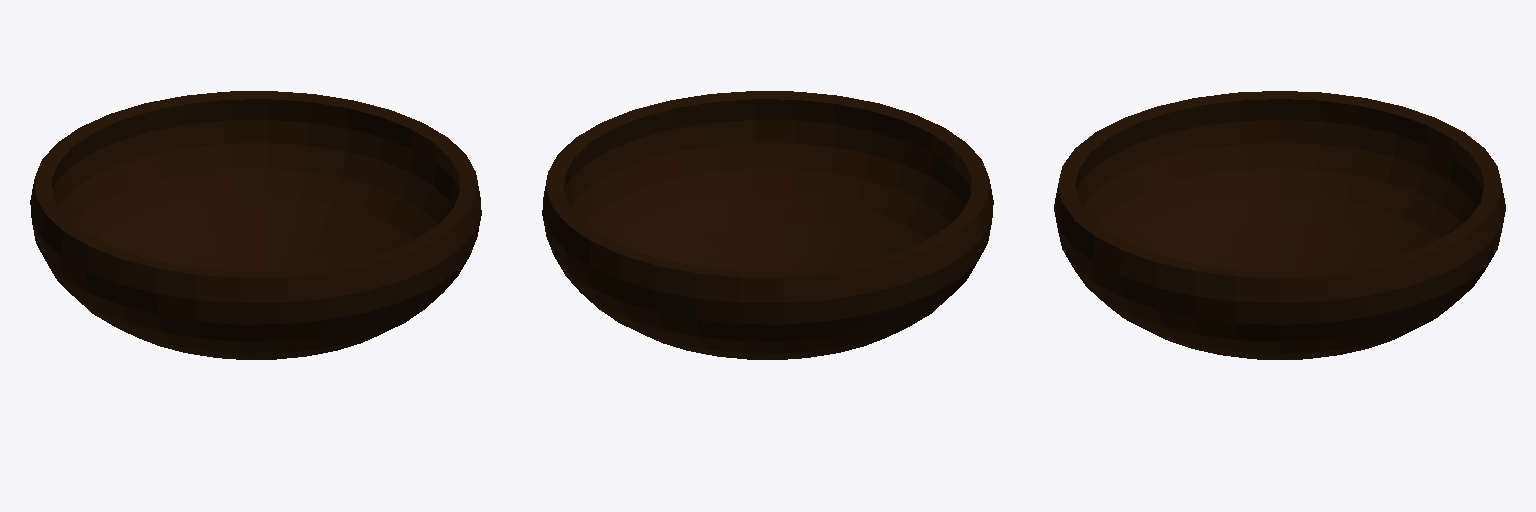
The model's file is bowl.obj.
The picture shows the model from 3 angles: view 1: azimuth 30°, elevation 25°; view 2: azimuth 150°, elevation 25°; view 3: azimuth 270°, elevation 25°; orthographic projection.
Visible parts, largest first — view 1: Sphere; view 2: Sphere; view 3: Sphere.
Boxes of the visible parts, x1=… form: Sphere: x1=30, y1=91, x2=481, y2=359; Sphere: x1=542, y1=91, x2=993, y2=359; Sphere: x1=1054, y1=91, x2=1505, y2=359.
Size of the model in its own units: 5.18 by 1.81 by 5.18.